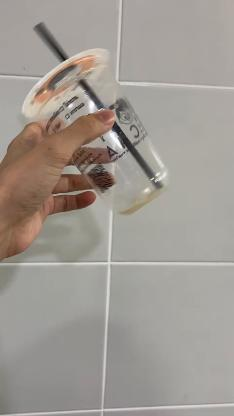Plastic Cup: (20, 47, 172, 217)
